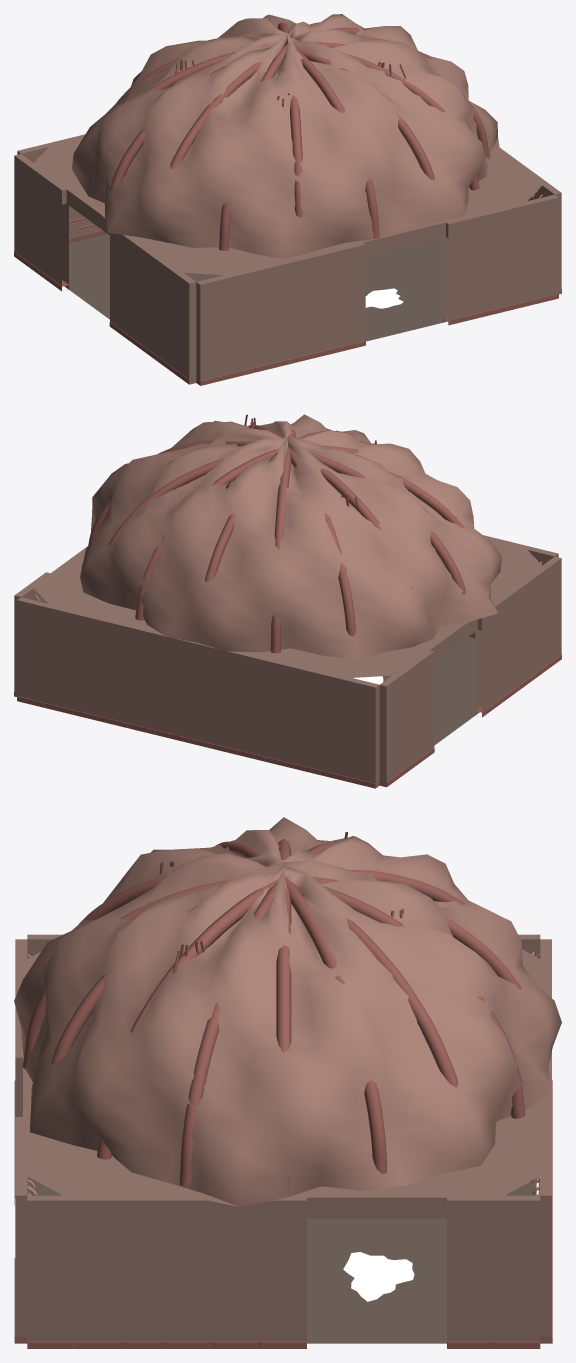
Rendered from environment.glb.
The picture shows the model from 3 angles, top to bottom: view 1: azimuth 30°, elevation 25°; view 2: azimuth 150°, elevation 25°; view 3: azimuth 270°, elevation 25°; orthographic projection. The views are drawn at different scales.
Visible parts, largest first — view 1: gullet-crop authored environment; view 2: gullet-crop authored environment; view 3: gullet-crop authored environment.
Part boxes in pixels (box(x1,y1,x2,y2)): gullet-crop authored environment: box(14, 14, 561, 385); gullet-crop authored environment: box(14, 414, 561, 788); gullet-crop authored environment: box(14, 817, 561, 1348).
Bounding box in the file's own units: 28.29 × 16.8 × 23.49.
